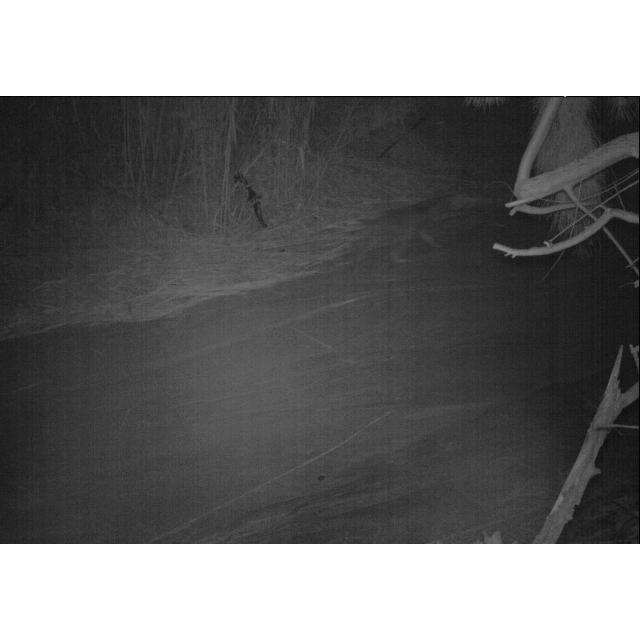animals: (350, 191, 456, 267)
